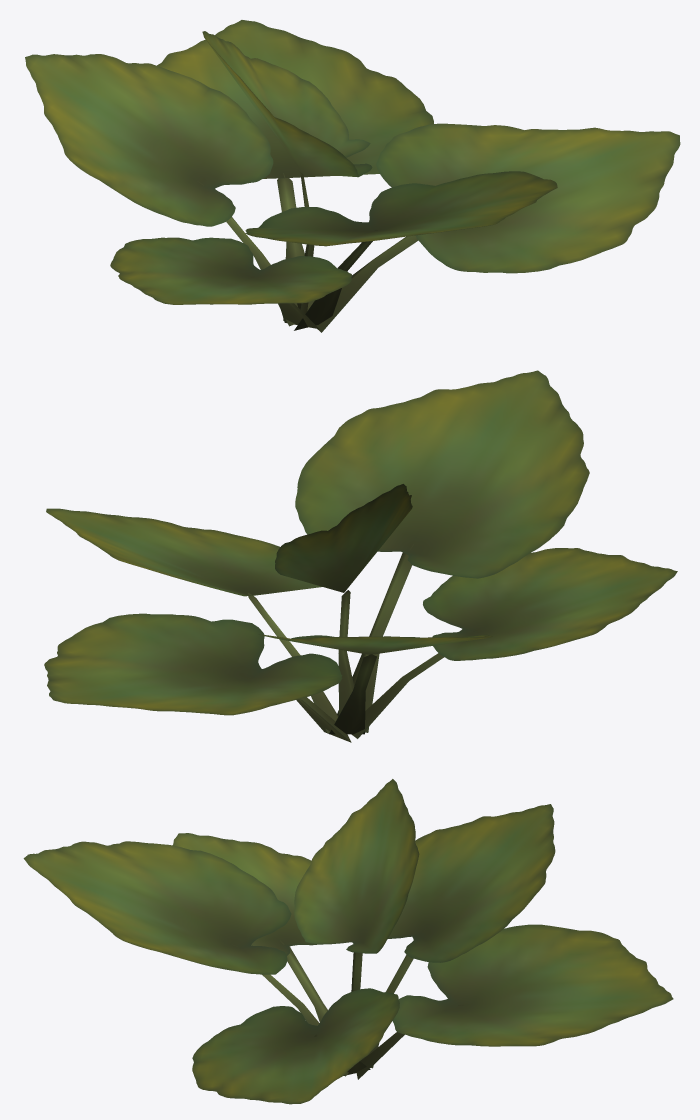
File: Plant_02.fbx
The picture shows the model from 3 angles, top to bottom: view 1: azimuth 30°, elevation 25°; view 2: azimuth 150°, elevation 25°; view 3: azimuth 270°, elevation 25°; orthographic projection. The views are drawn at different scales.
Visible parts, largest first — view 1: Plant_02; view 2: Plant_02; view 3: Plant_02.
Part boxes in pixels (<box>): Plant_02: <box>25,20,680,332</box>; Plant_02: <box>44,370,677,742</box>; Plant_02: <box>23,779,673,1104</box>.
Bounding box in the file's own units: 201 × 95.96 × 220.
Materials: 1 (1 with a texture image).
